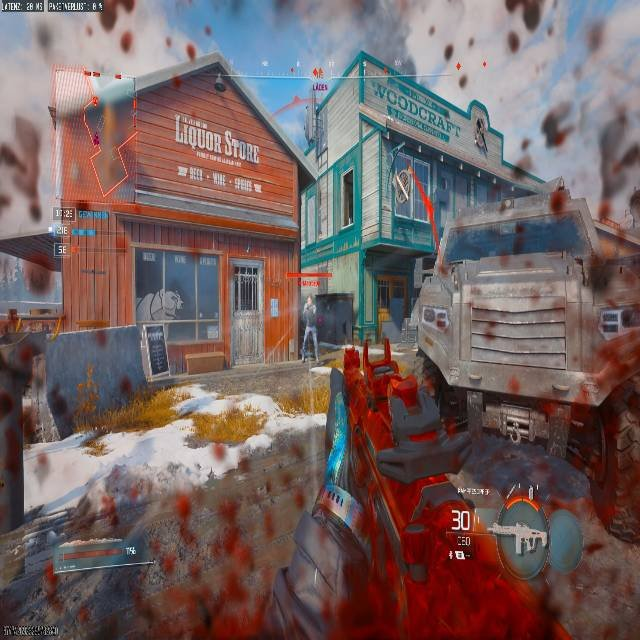head: (305, 296, 313, 305)
player: (299, 297, 322, 360)
